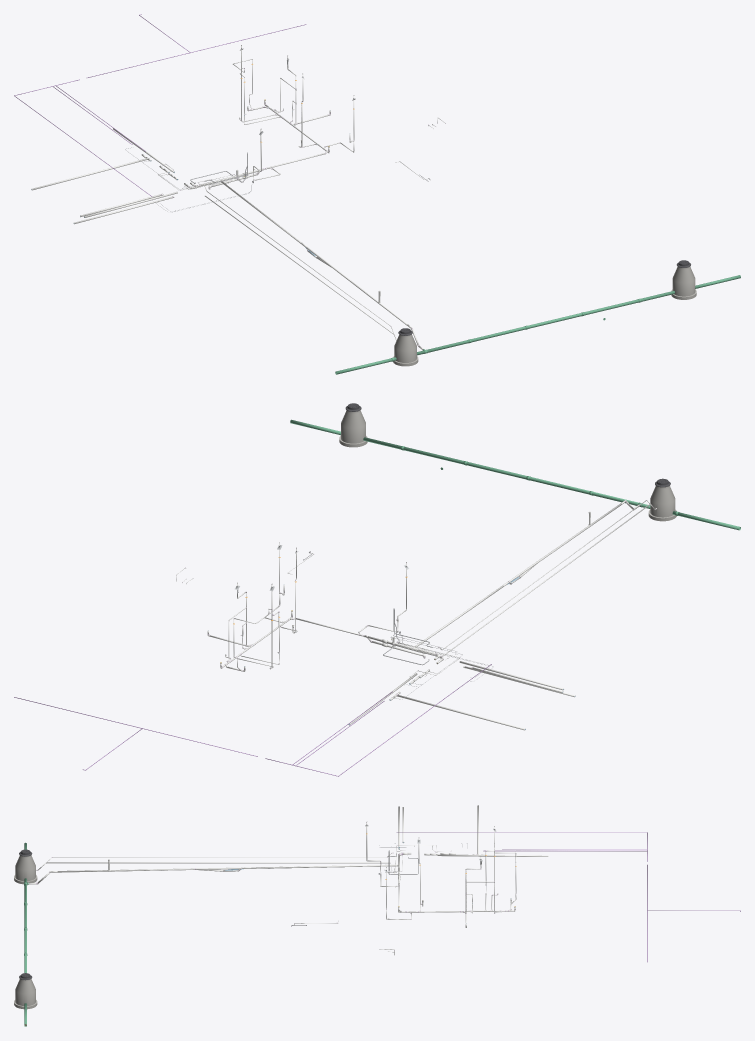
File: slab_pipes_dwv.glb
The picture shows the model from 3 angles, top to bottom: view 1: azimuth 30°, elevation 25°; view 2: azimuth 150°, elevation 25°; view 3: azimuth 270°, elevation 25°; orthographic projection. The views are drawn at different scales.
Visible parts, largest first — view 1: pipe_dwv_city_main, manhole_city_east, manhole_city_west; view 2: pipe_dwv_city_main, manhole_city_east, manhole_city_west; view 3: pipe_dwv_force_main_lift_duplex, pipe_dwv_sewer_city, manhole_city_east, manhole_city_west, pipe_dwv_sewer_city_belly, pipe_dwv_city_main.
Boxes of the visible parts, bbox=[...] form: pipe_dwv_city_main: bbox=[335, 275, 740, 374]; manhole_city_east: bbox=[671, 267, 696, 299]; manhole_city_west: bbox=[393, 334, 418, 366]; pipe_dwv_city_main: bbox=[290, 419, 740, 530]; manhole_city_east: bbox=[339, 410, 367, 447]; manhole_city_west: bbox=[648, 486, 676, 521]; pipe_dwv_force_main_lift_duplex: bbox=[36, 862, 389, 870]; pipe_dwv_sewer_city: bbox=[29, 864, 398, 884]; manhole_city_east: bbox=[14, 979, 37, 1009]; manhole_city_west: bbox=[14, 855, 37, 884]; pipe_dwv_sewer_city_belly: bbox=[58, 864, 397, 872]; pipe_dwv_city_main: bbox=[24, 842, 27, 1026].
Size of the model in its own units: 34.77 by 8.07 by 52.21.
